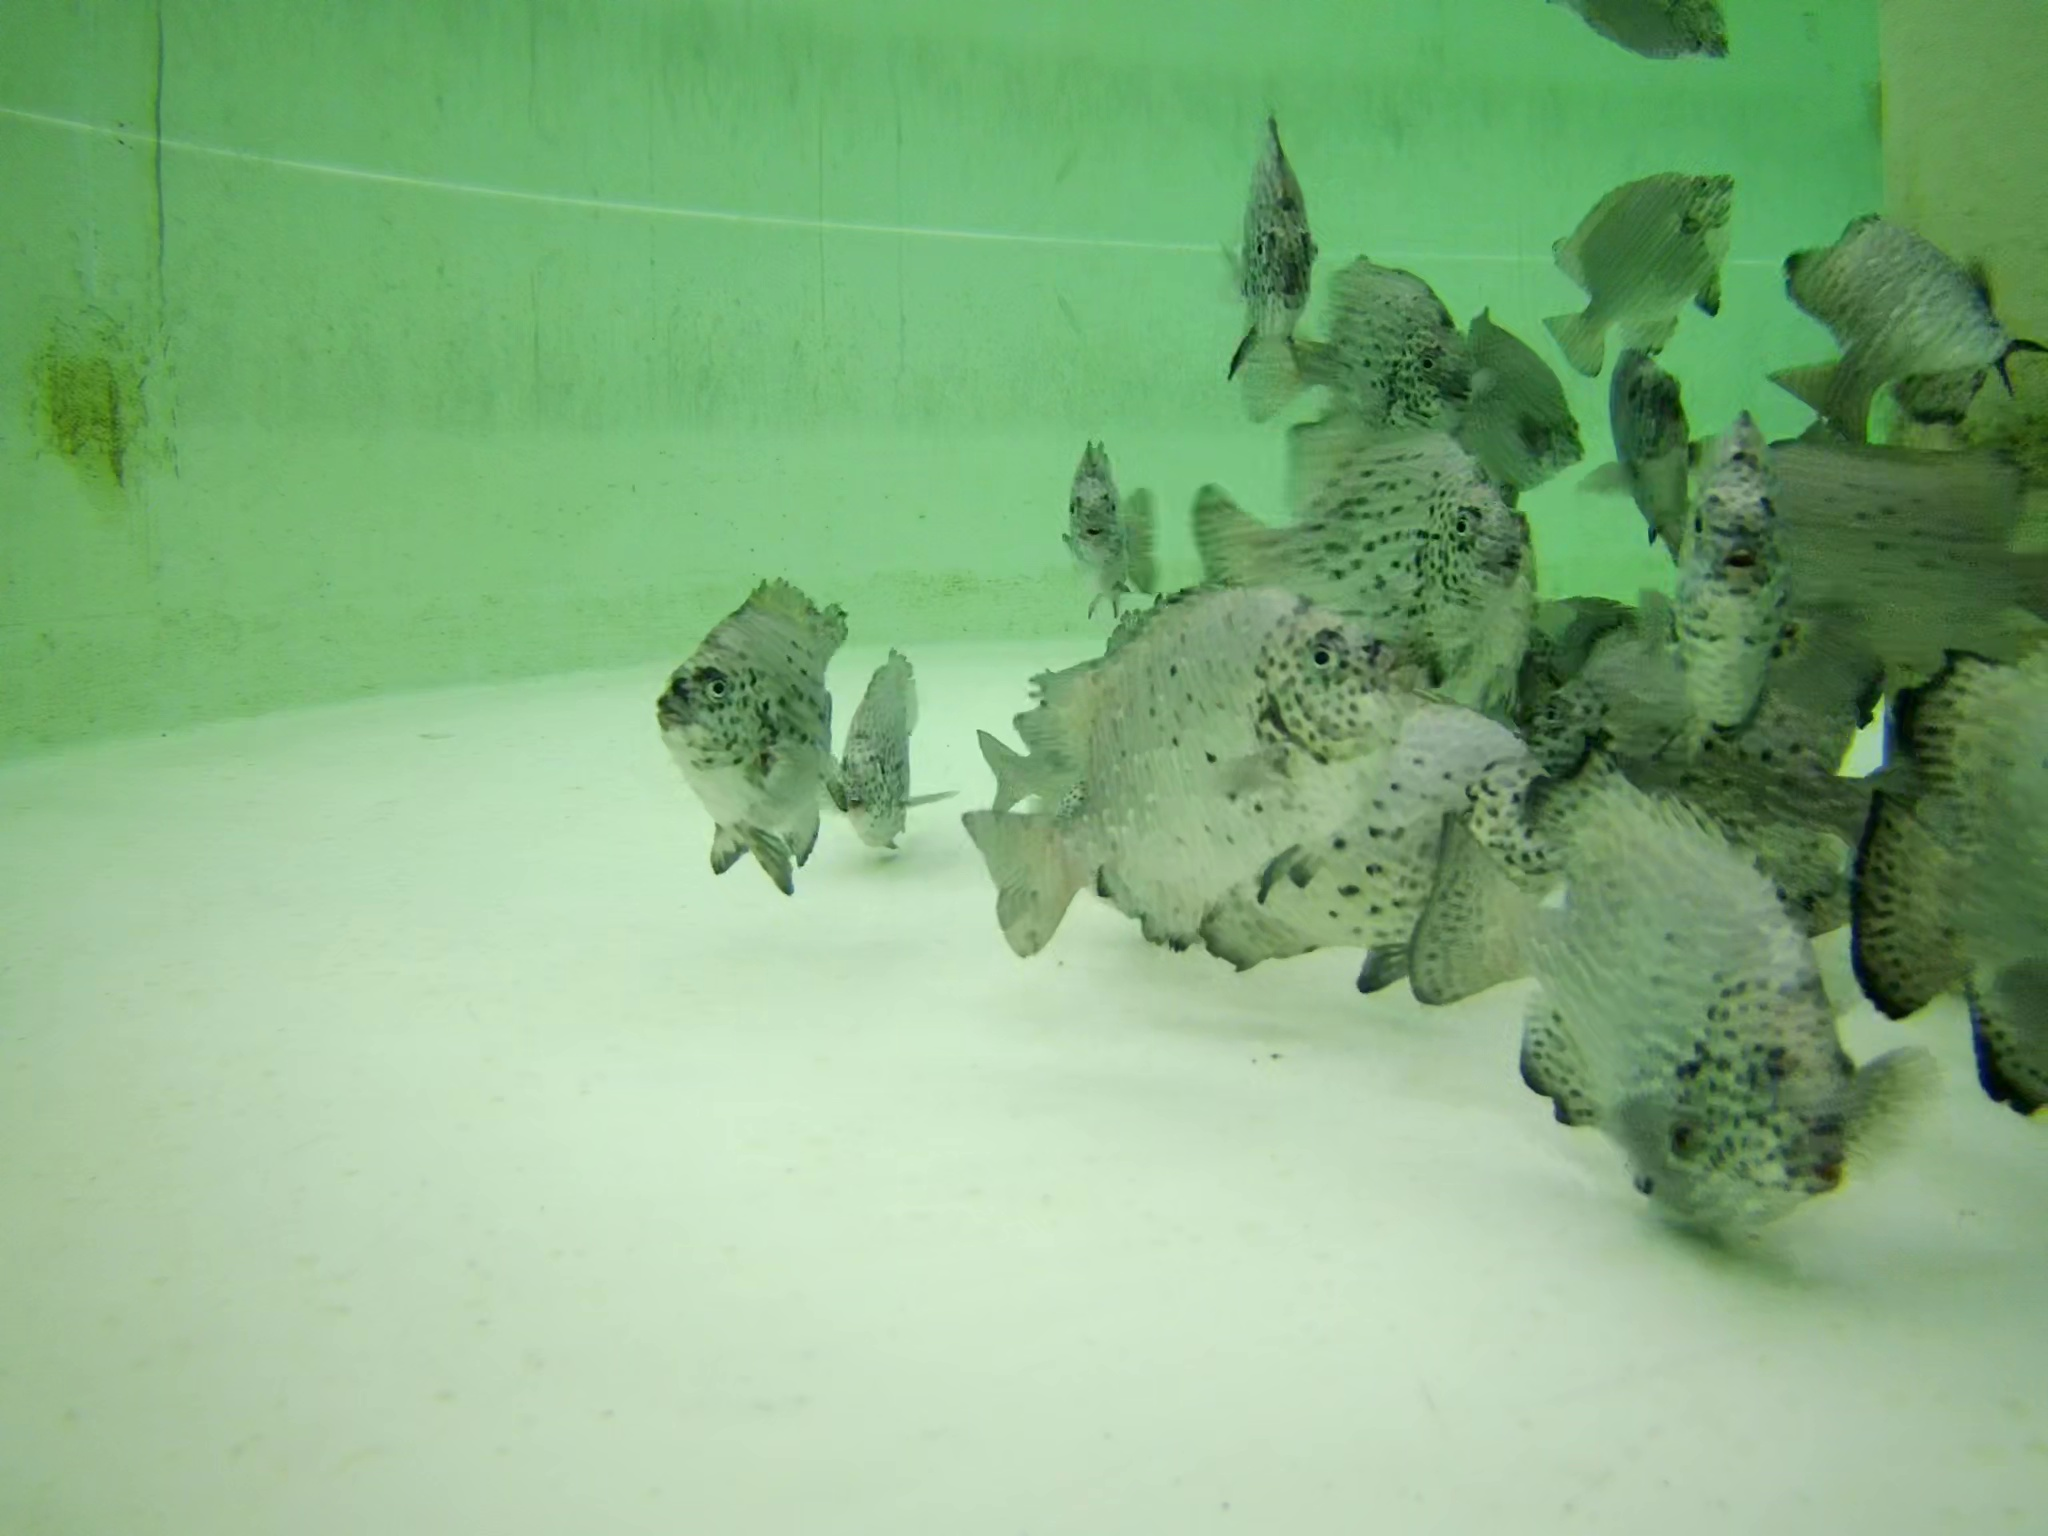fish: (1409, 731, 1845, 1202), (964, 586, 1401, 973), (1188, 681, 1534, 952), (1519, 976, 1921, 1205), (1197, 418, 1527, 665), (674, 566, 924, 881), (1764, 429, 2048, 671), (1863, 666, 2048, 1018), (1777, 190, 2027, 418), (1669, 415, 1814, 765), (1542, 157, 1743, 379), (1282, 260, 1477, 440), (1417, 313, 1584, 494), (969, 670, 1185, 805), (1596, 334, 1701, 576), (1938, 894, 2048, 1105), (1234, 113, 1317, 379), (1063, 453, 1172, 603), (1585, 2, 1743, 71), (1893, 332, 1985, 428)
